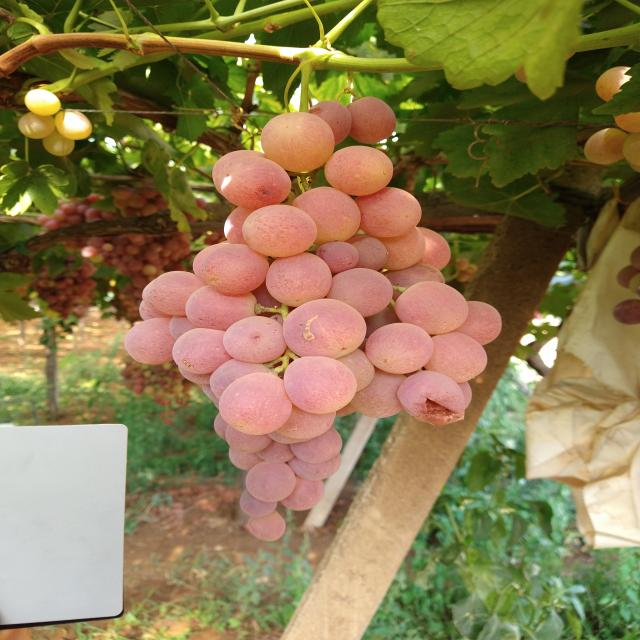grapes: (282, 299, 368, 357), (219, 372, 292, 436), (259, 112, 336, 172), (285, 356, 357, 414), (393, 280, 468, 334), (242, 205, 318, 257), (292, 186, 361, 243), (394, 372, 466, 426), (200, 243, 270, 295), (266, 252, 332, 306), (218, 158, 292, 206), (366, 322, 434, 373), (355, 187, 423, 237), (324, 146, 394, 194), (424, 332, 488, 383), (186, 286, 259, 330), (328, 268, 394, 315), (210, 357, 276, 400), (146, 270, 207, 316), (352, 367, 408, 417), (226, 317, 286, 363), (172, 329, 231, 374), (212, 150, 264, 199), (366, 227, 424, 270), (125, 317, 176, 365), (348, 96, 398, 144), (383, 264, 445, 300), (455, 301, 503, 345), (246, 462, 296, 503), (276, 404, 335, 438), (289, 428, 344, 462), (309, 101, 351, 144), (334, 348, 375, 392), (192, 241, 233, 283), (282, 476, 326, 512), (584, 128, 628, 164), (417, 227, 452, 272), (350, 234, 389, 270), (316, 241, 358, 273), (225, 425, 272, 452), (595, 67, 632, 101), (223, 206, 256, 244), (288, 457, 341, 480), (55, 108, 93, 140), (365, 305, 401, 338), (248, 511, 286, 541), (142, 279, 170, 316), (240, 489, 276, 517), (25, 88, 61, 116), (18, 113, 54, 139), (251, 286, 282, 316), (41, 132, 75, 156), (228, 446, 260, 469), (612, 299, 640, 325), (177, 364, 212, 384), (265, 432, 317, 444), (615, 265, 640, 289), (260, 443, 293, 461), (170, 315, 196, 337), (614, 112, 640, 133), (623, 134, 640, 163), (140, 300, 159, 320), (458, 381, 472, 408), (214, 414, 227, 441), (200, 384, 217, 402), (629, 244, 640, 271), (515, 64, 529, 84), (628, 272, 640, 295), (111, 186, 132, 199), (128, 195, 146, 208), (335, 407, 356, 418), (81, 246, 98, 258), (127, 260, 143, 272), (85, 208, 101, 219), (142, 265, 157, 275), (148, 243, 163, 252), (627, 163, 640, 173), (53, 211, 66, 221), (127, 246, 140, 256), (46, 221, 60, 230), (129, 233, 143, 242), (195, 198, 206, 209), (63, 203, 75, 213), (76, 205, 88, 214), (37, 216, 50, 224), (101, 244, 114, 252), (86, 194, 98, 202), (162, 249, 172, 256), (209, 233, 218, 240), (214, 401, 218, 410)
